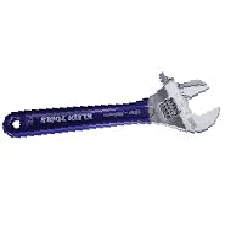Wrench: (1, 66, 225, 154)
